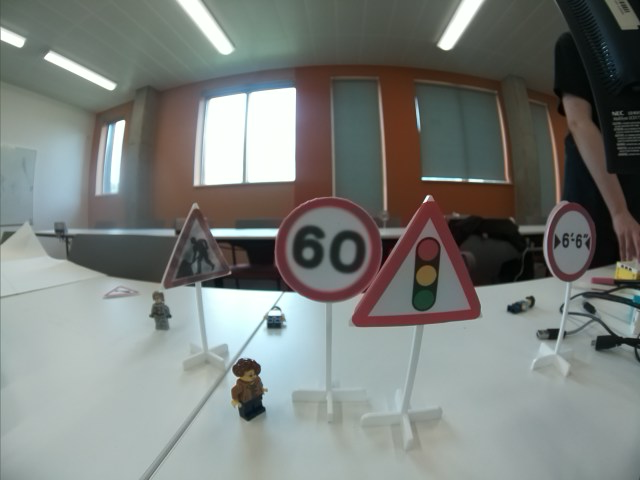60mph: (272, 195, 383, 302)
6ft6: (543, 205, 597, 280)
Lego Man: (229, 355, 270, 421), (148, 290, 172, 330), (261, 305, 289, 331), (506, 294, 538, 316)
Roadworks: (161, 211, 234, 289)
Traffic lights: (352, 203, 483, 328)
Warning: (104, 284, 139, 299)
